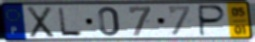0: (96, 6, 121, 38)
7: (127, 5, 153, 36), (167, 5, 192, 37)
L: (56, 7, 85, 37)
P: (198, 4, 228, 38)
X: (26, 5, 56, 39)
